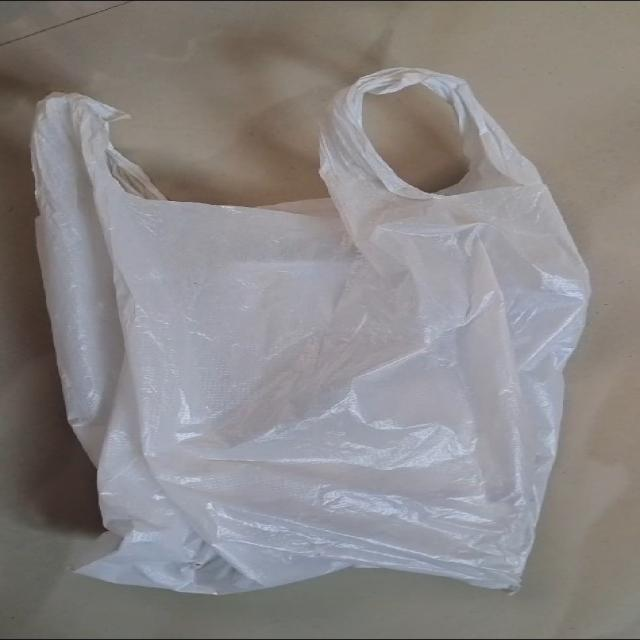plastic: (37, 58, 601, 606)
